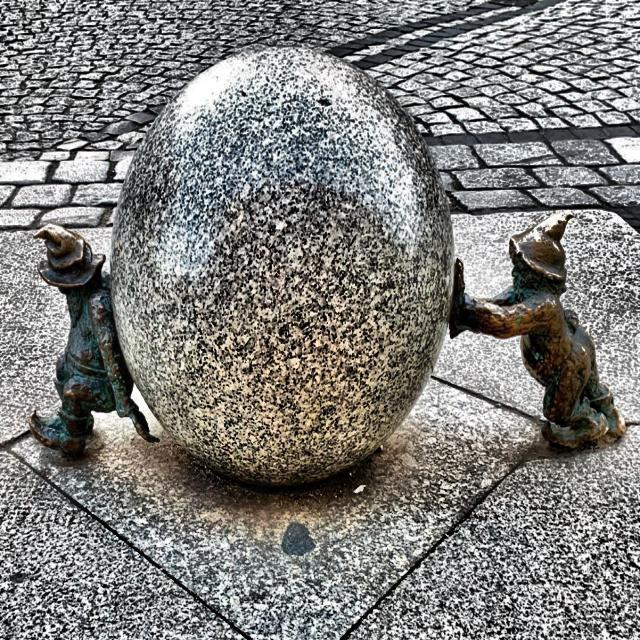Syzyfki: (20, 32, 634, 497)
